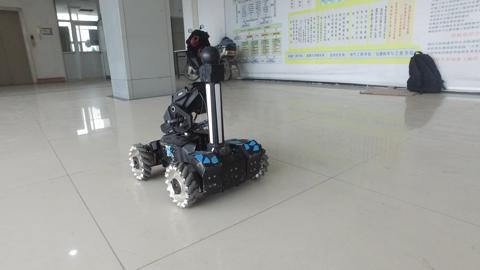bag: (401, 46, 452, 103)
chariot: (122, 42, 271, 213)
